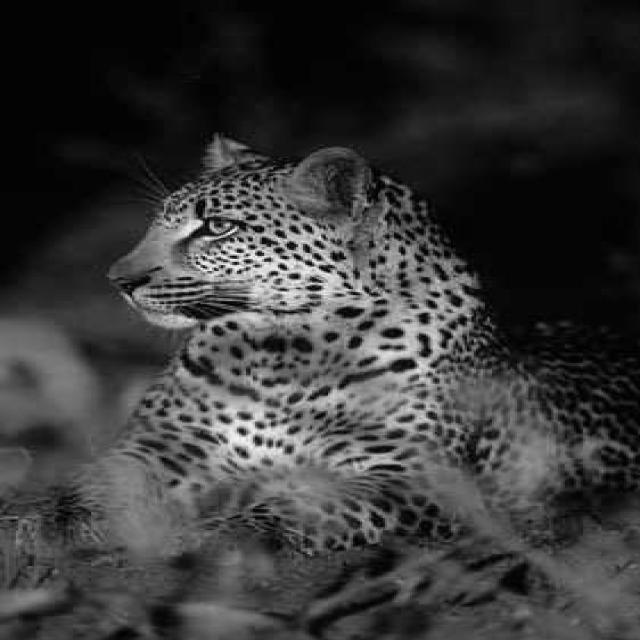Leopard: (78, 116, 557, 578)
